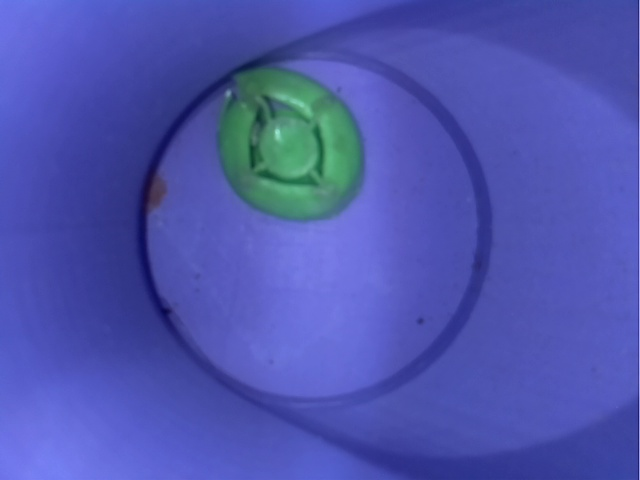bouchon: (197, 57, 385, 230)
